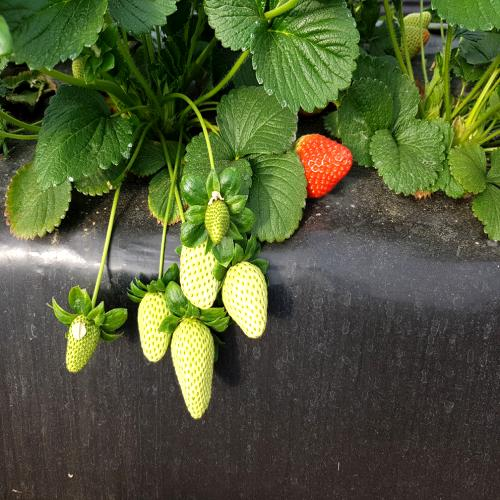unripe: (178, 213, 225, 305), (176, 322, 217, 424), (230, 254, 276, 342), (137, 291, 171, 374)
